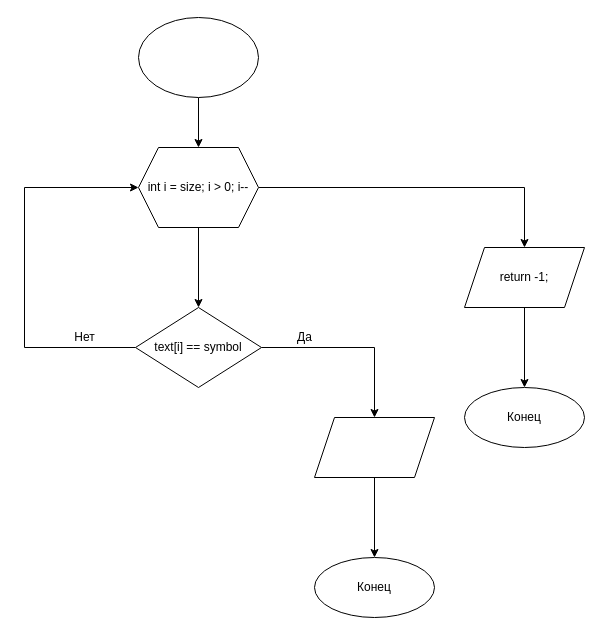
The diagram is 602 pixels wide and 635 high, and some of its shapes have lost their labels. Here are the shapes that lost their labels. From the top down, the centre of each, then its label:
pixel 198 57: Начало
pixel 374 447: return i;
